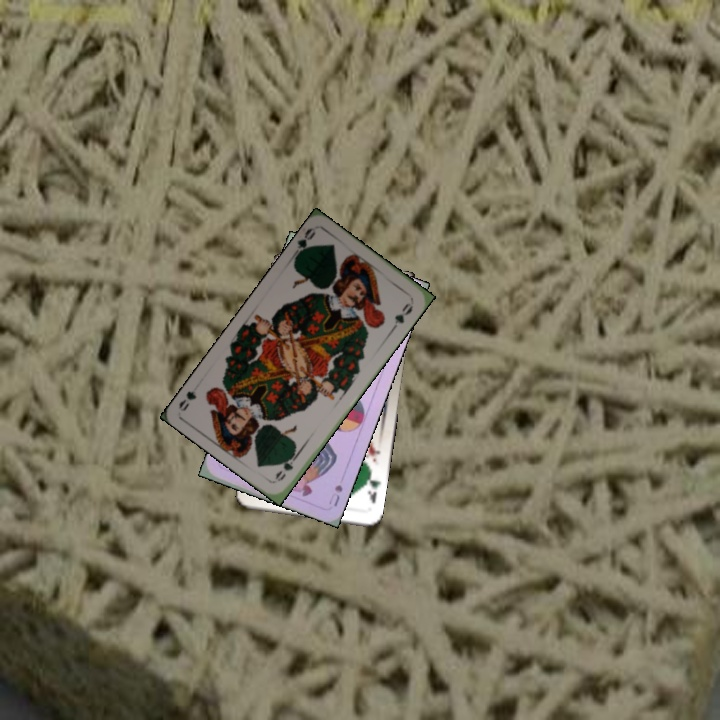GK: (363, 471, 383, 506)
GO: (288, 224, 318, 263), (271, 447, 302, 484)
SU: (325, 480, 345, 509)
